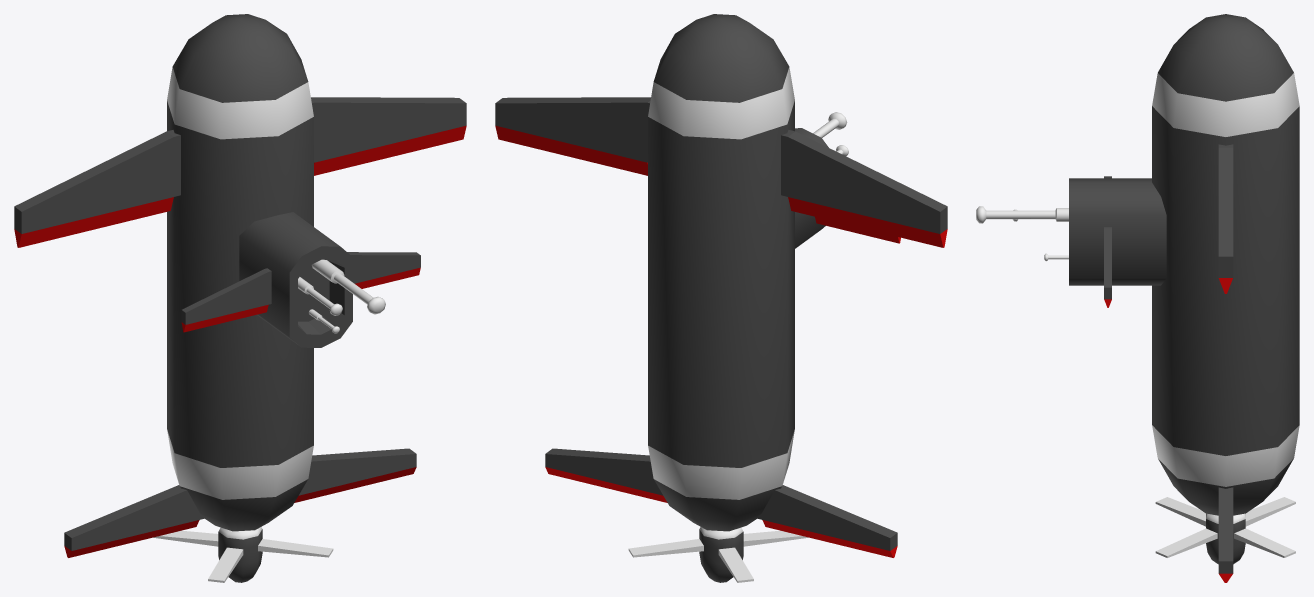
Rendered from Submarine 1.fbx.
The picture shows the model from 3 angles, left to right: view 1: azimuth 30°, elevation 25°; view 2: azimuth 150°, elevation 25°; view 3: azimuth 270°, elevation 25°; orthographic projection. The views are drawn at different scales.
Visible parts, largest first — view 1: Submarine; view 2: Submarine; view 3: Submarine.
Boxes of the visible parts, x1=… form: Submarine: x1=14, y1=14, x2=466, y2=582; Submarine: x1=495, y1=14, x2=947, y2=582; Submarine: x1=976, y1=14, x2=1299, y2=582.
Size of the model in its own units: 89.57 by 108 by 58.1.
